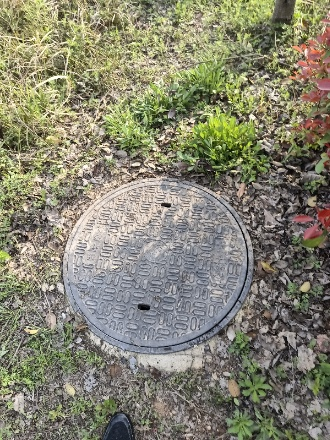good: (62, 179, 252, 353)
